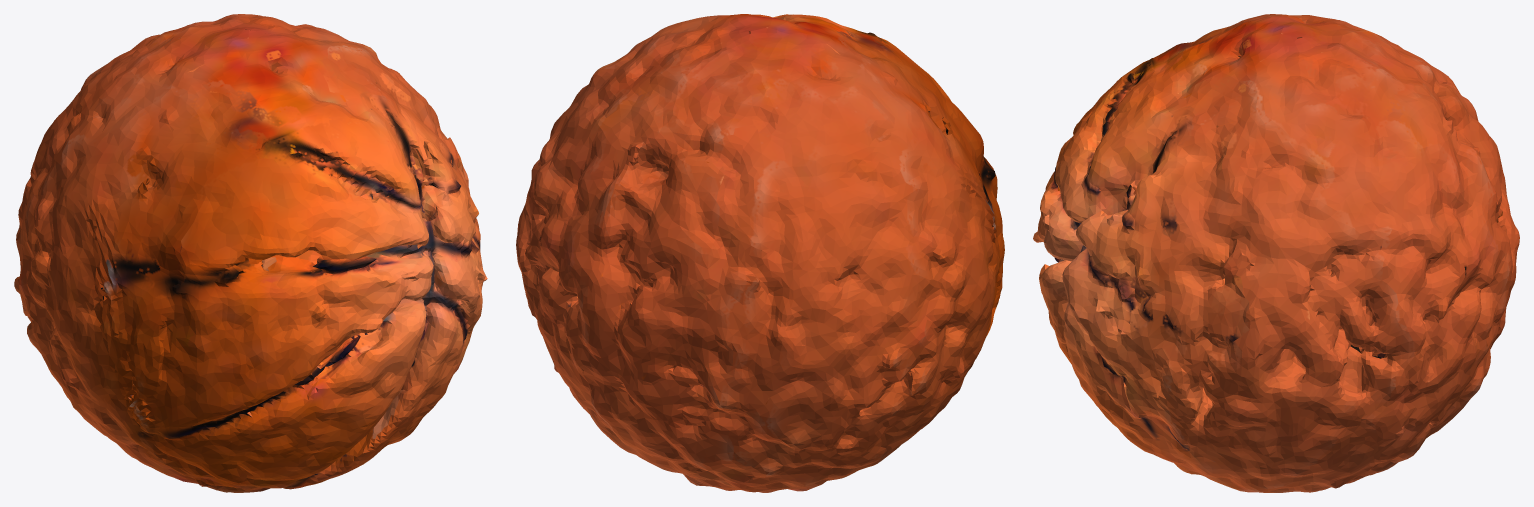
File: baseketball_mesh.glb
The picture shows the model from 3 angles, left to right: view 1: azimuth 30°, elevation 25°; view 2: azimuth 150°, elevation 25°; view 3: azimuth 270°, elevation 25°; orthographic projection. The views are drawn at different scales.
Bounding box in the file's own units: 1.51 × 1.54 × 1.55.
Materials: 1 (1 with a texture image).
